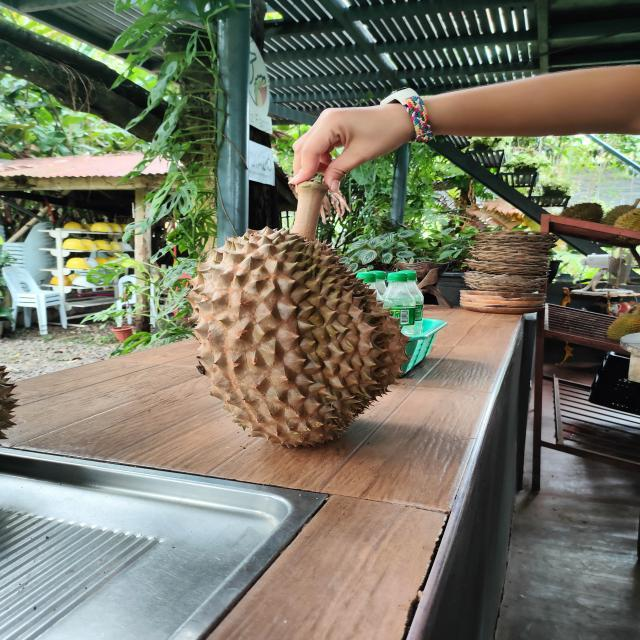mature: (188, 229, 408, 446)
